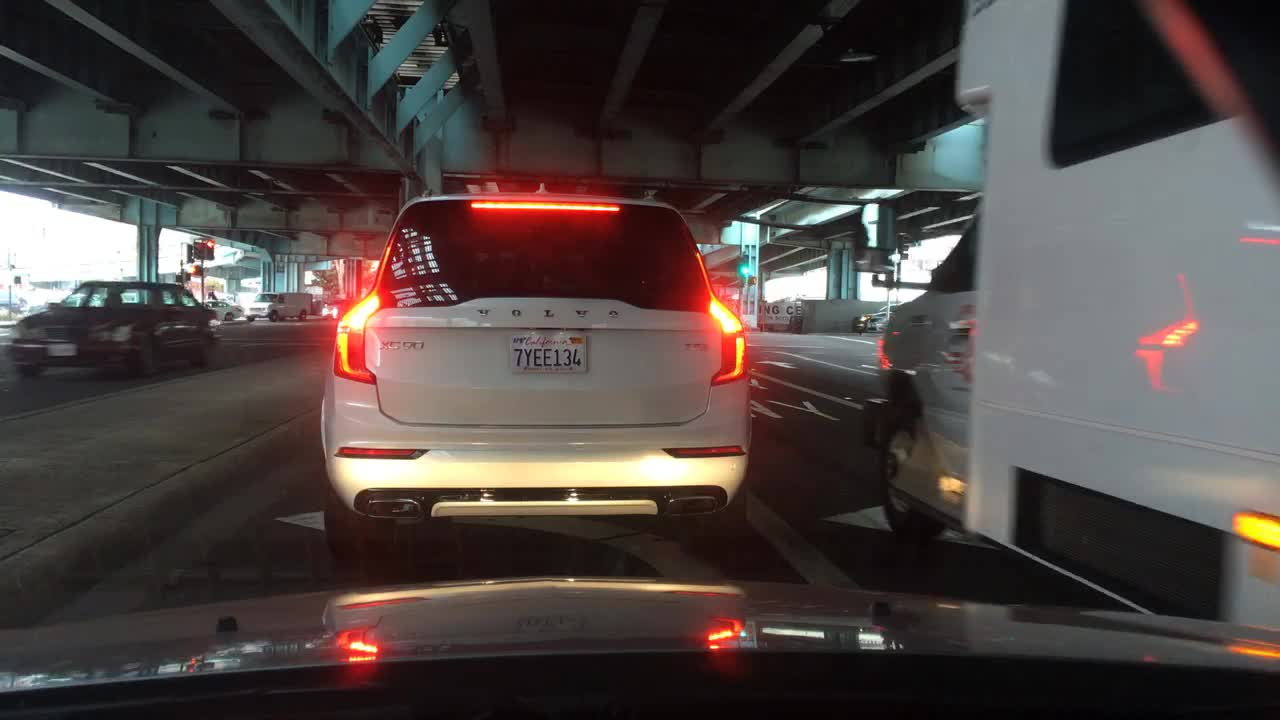car: (320, 185, 752, 562), (10, 278, 220, 379), (851, 301, 902, 332), (320, 296, 356, 322), (204, 300, 242, 322)
traffic light: (740, 259, 752, 277), (204, 238, 213, 260), (191, 265, 204, 277), (193, 239, 200, 256)
truck: (860, 0, 1279, 625), (247, 291, 315, 323)
